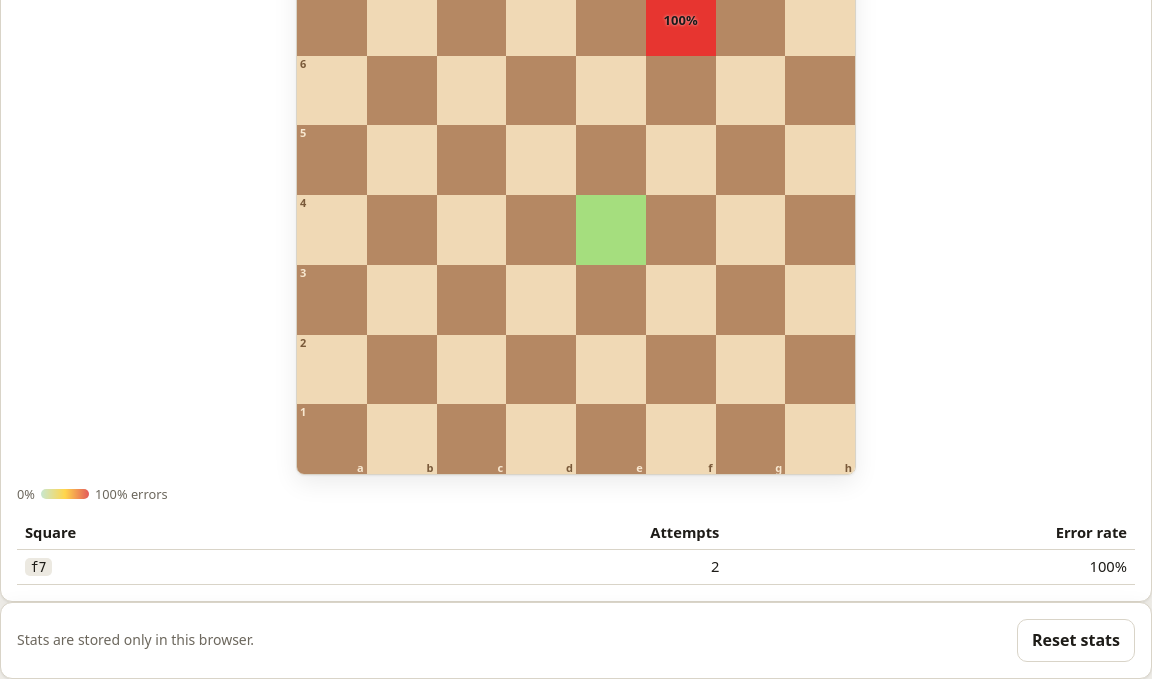
StatsView › renders per-mode cards, the heatmap and a confirmed reset
The image size is (1152, 679).
(page scrolled)
Check: the text "f7" shows "100%", box [17,549,1135,584]
Check: the text "f7" shows "2", box [711,556,719,576]
Click the button "Reset stats": (1076, 640) [1017,619,1135,662]
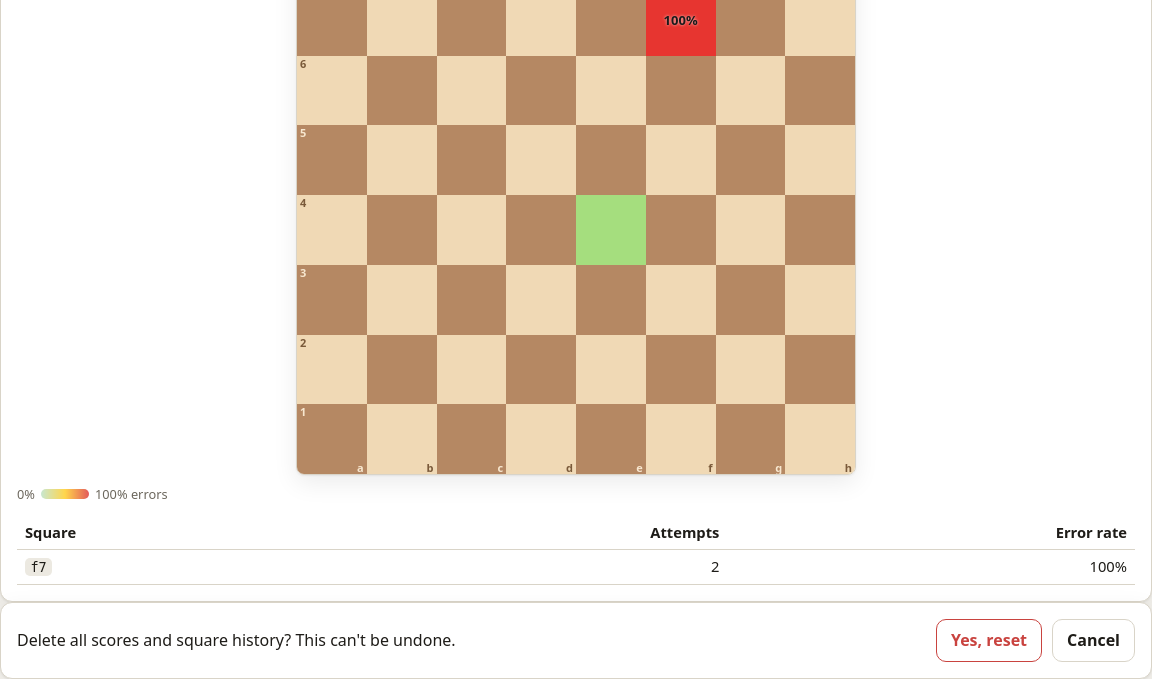
Check: the text "Delete all scores and square history? This can't be undone." is shown, box [17,629,456,652]
Click the button "Cancel": (1094, 640) [1052,619,1135,662]
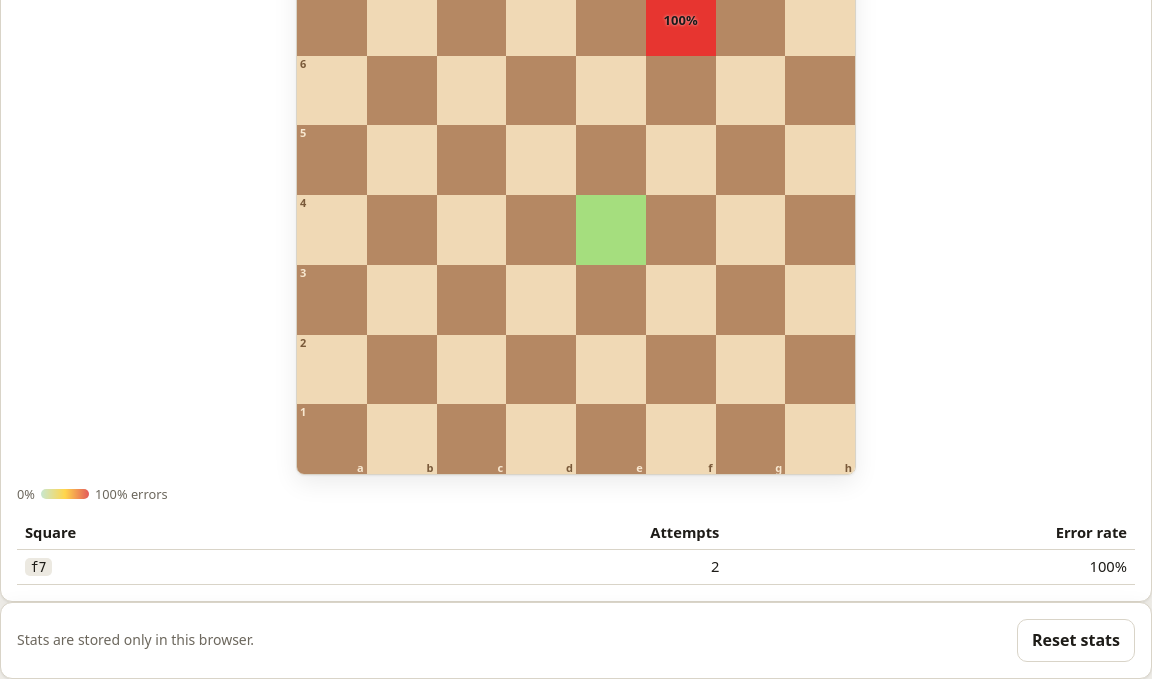
Click the button "Reset stats": (1076, 640) [1017,619,1135,662]
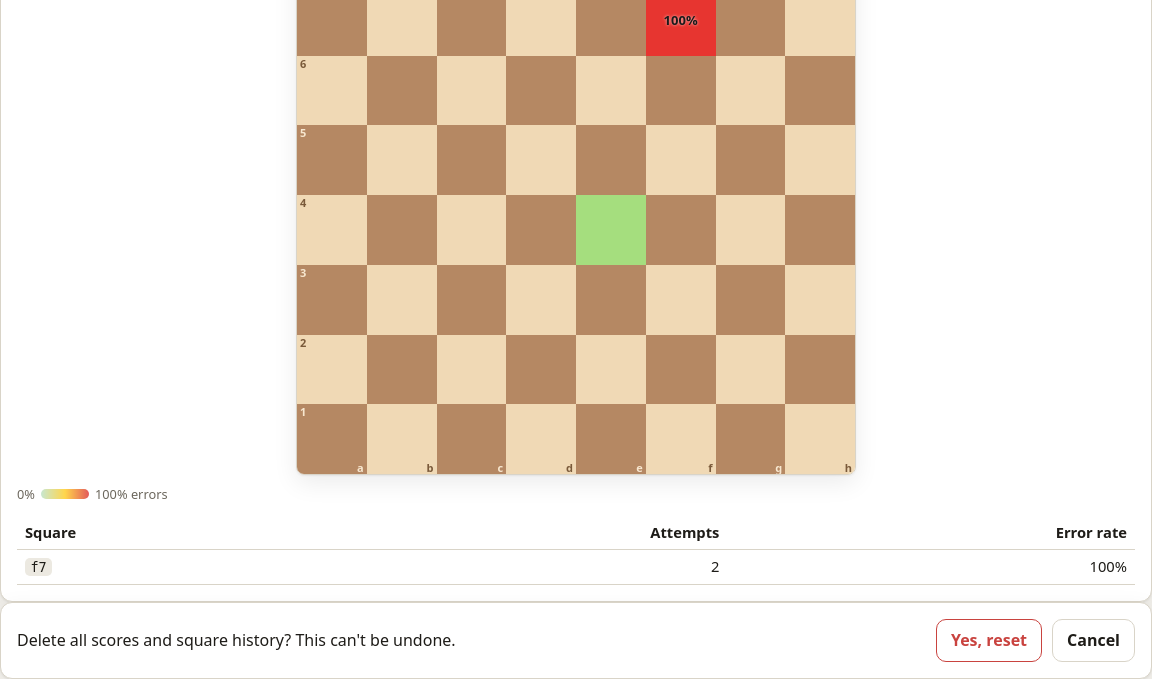
Click the button "Yes, reset": (989, 640) [936,619,1042,662]
(page scrolled)
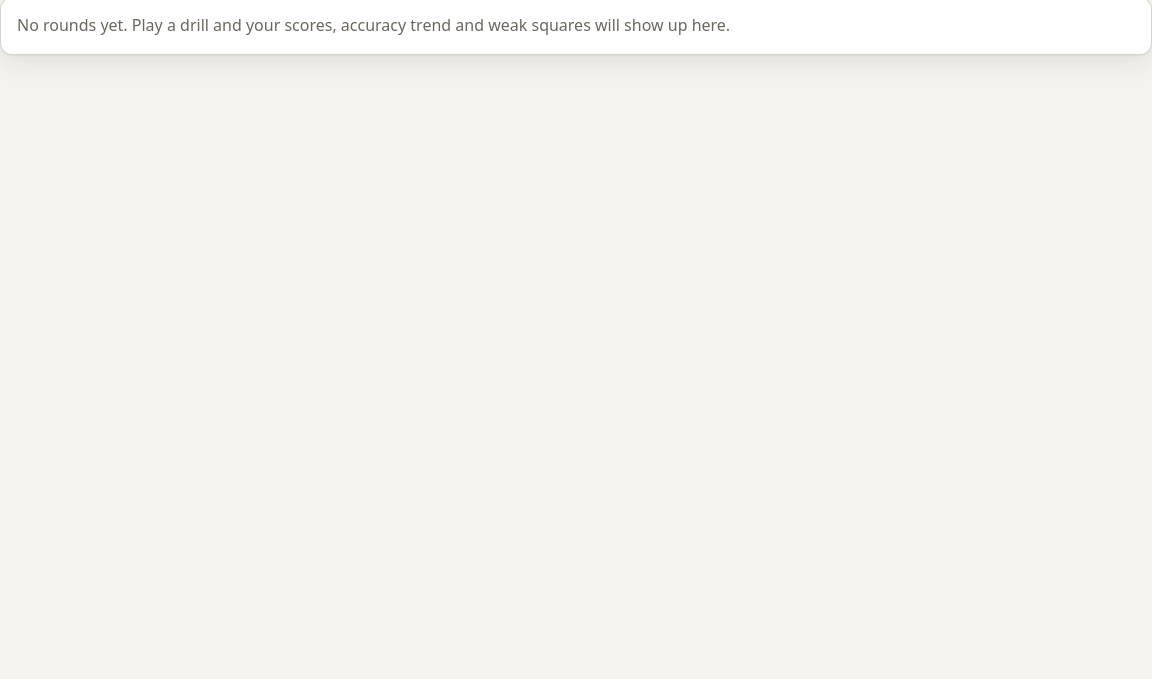
Check: the text "No rounds yet" is shown, box [17,14,730,36]
